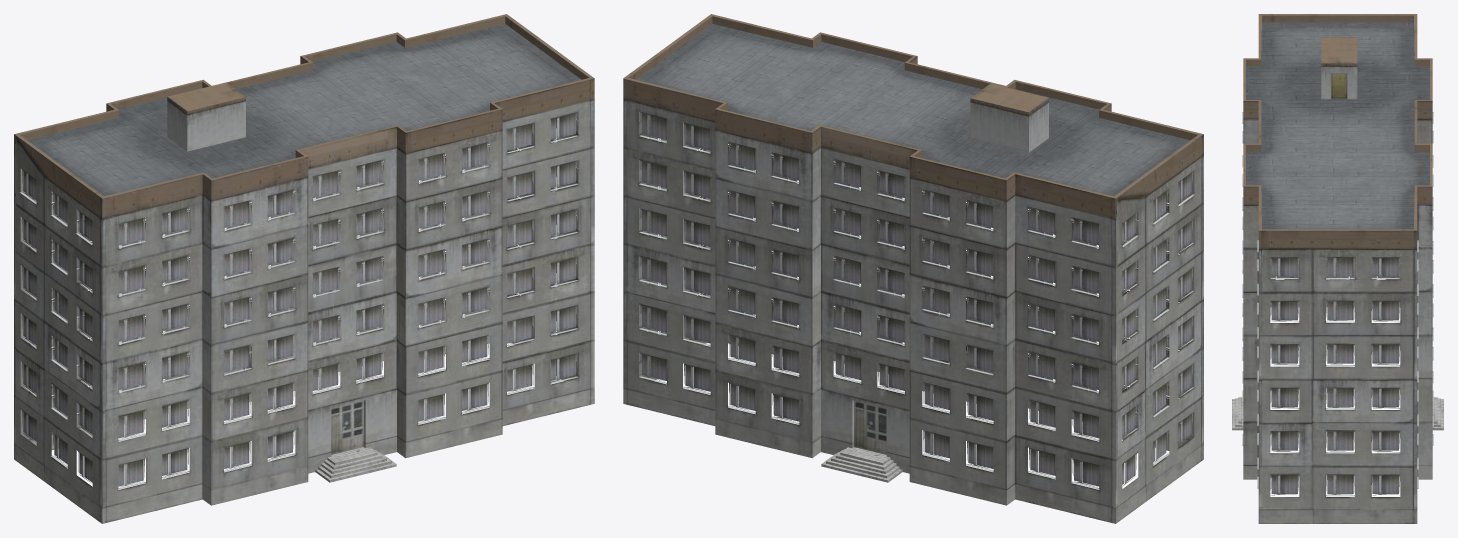
The model's file is lowpoly_apt.glb.
3 renders of one model, left to right at view 1: azimuth 30°, elevation 25°; view 2: azimuth 150°, elevation 25°; view 3: azimuth 270°, elevation 25°, orthographic. The views are drawn at different scales.
Parts seen in each view (by area): view 1: BUILDING_lambert1_0; view 2: BUILDING_lambert1_0; view 3: BUILDING_lambert1_0.
Part boxes in pixels (box(x1,y1,x2,y2)): BUILDING_lambert1_0: box(14, 14, 594, 523); BUILDING_lambert1_0: box(623, 14, 1203, 523); BUILDING_lambert1_0: box(1232, 14, 1443, 523).
Bounding box in the file's own units: 39.78 × 27.5 × 16.36.
Materials: 1 (1 with a texture image).
